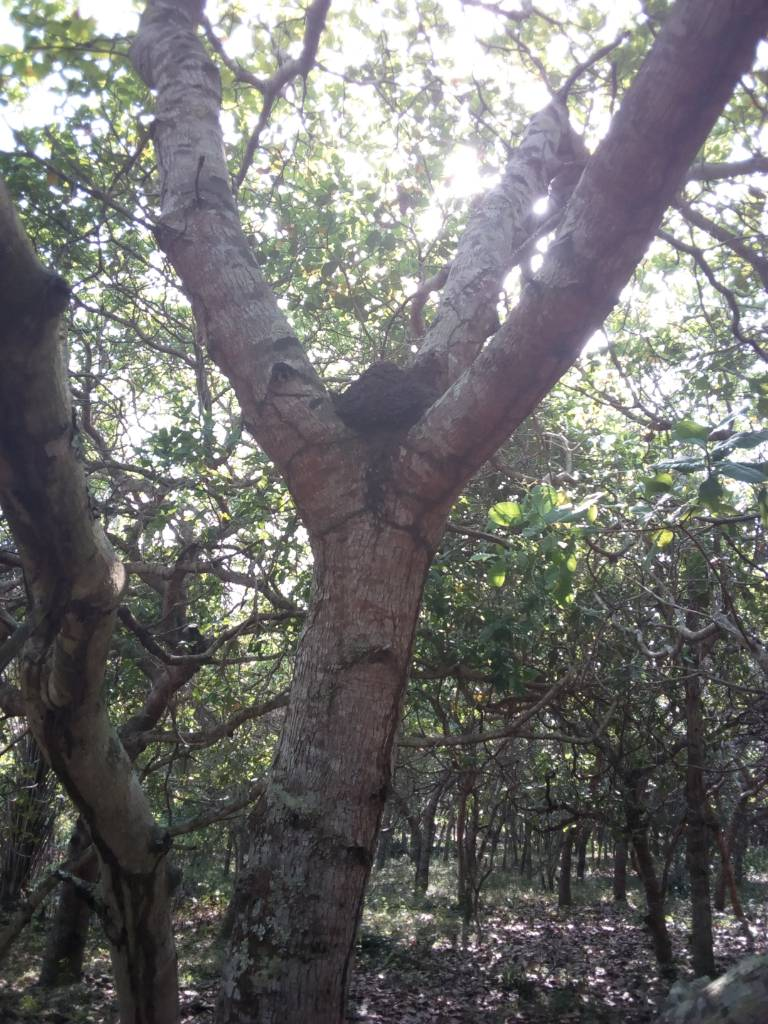Termites: (33, 521, 157, 927), (340, 355, 411, 441)
